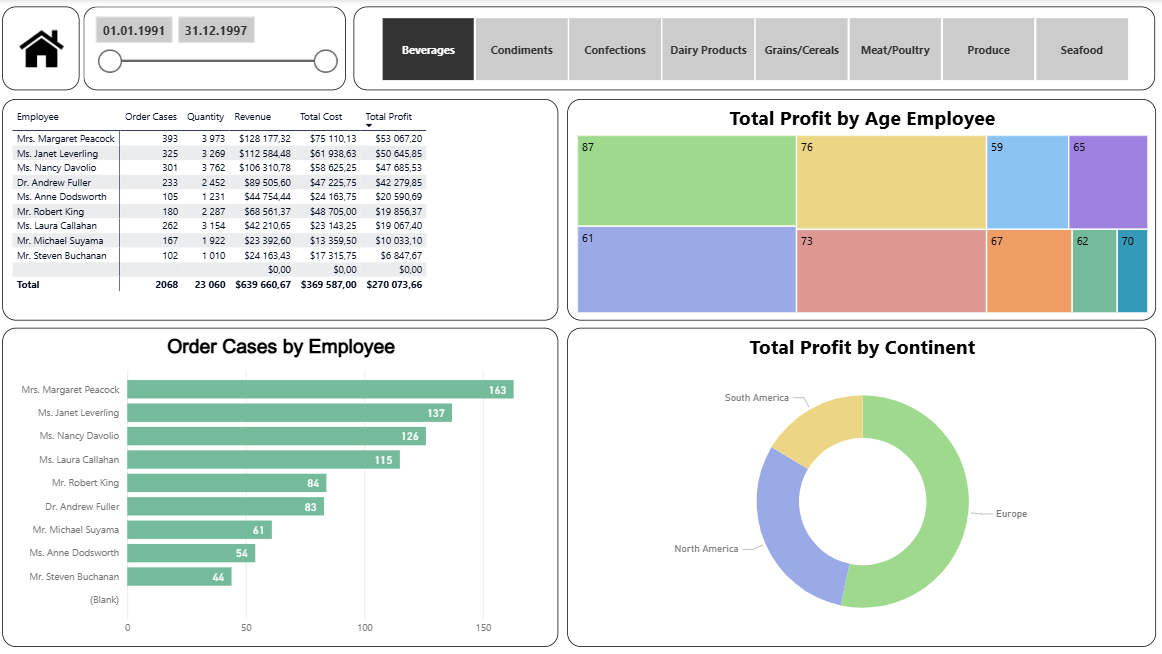

This screenshot's page, from the dashboard's own definition file:
{"tool":"powerbi","page":{"name":"Employees Overview","canvas":[1280,720],"ordinal":5},"visuals":[{"type":"pivotTable","fields":{"Rows":["employees_dir.full_name"],"Values":["NW_Orders_Total.Order_Cases","NW_Orders_Details_Total.Sum_Quantity","NW_Orders_Details_Total.Revenue","NW_Orders_Details_Total.Total Cost","NW_Orders_Details_Total.Total Profit"]},"box":[6.9,109.9,610.6,243.5],"z":0},{"type":"donutChart","fields":{"Y":["NW_Orders_Details_Total.Total Profit"],"Category":["NW_Orders_Total.Continent"]},"box":[626.5,360.2,646.3,350.4],"z":1000},{"type":"treemap","title":"Total Profit by Age Employee","fields":{"Group":["employees_dir.Age"],"Values":["NW_Orders_Details_Total.Total Profit"]},"box":[626.5,109.9,646.3,243.5],"z":2000},{"type":"clusteredBarChart","title":"Order Cases by Employee","fields":{"Y":["NW_Orders_Details_Total.Order_Cases_Dist"],"Category":["employees_dir.full_name"]},"box":[6.9,360.2,610.6,350.4],"z":3000},{"type":"slicer","fields":{"Values":["categories_dir.category_name"]},"box":[392.9,7.9,879.8,92],"z":4000},{"type":"slicer","fields":{"Values":["Calendar.Date"]},"box":[96,7.9,288,92],"z":5000},{"type":"image","box":[6.9,7.8,84.8,91.7],"z":6000}]}

Visuals, with their boxes in screenshot pixels (x1, y1, x2, y2), scaled from the page's 1280x720 canvas onto the 1162x654 screenshot:
pivotTable - employees_dir.full_name x NW_Orders_Total.Order_Cases: x1=6, y1=100, x2=561, y2=321
donutChart - NW_Orders_Details_Total.Total Profit x NW_Orders_Total.Continent: x1=569, y1=327, x2=1155, y2=645
"Total Profit by Age Employee" treemap: x1=569, y1=100, x2=1155, y2=321
"Order Cases by Employee" clusteredBarChart: x1=6, y1=327, x2=561, y2=645
slicer - categories_dir.category_name: x1=357, y1=7, x2=1155, y2=91
slicer - Calendar.Date: x1=87, y1=7, x2=349, y2=91
image: x1=6, y1=7, x2=83, y2=90
